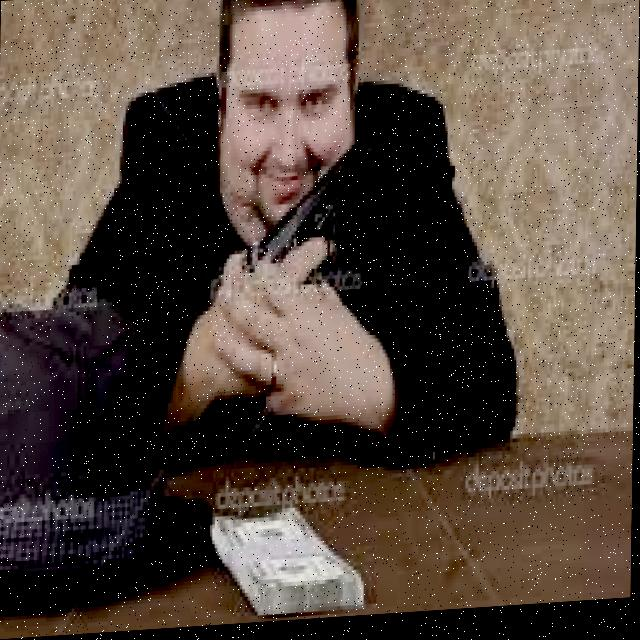pistol: (240, 147, 367, 276)
